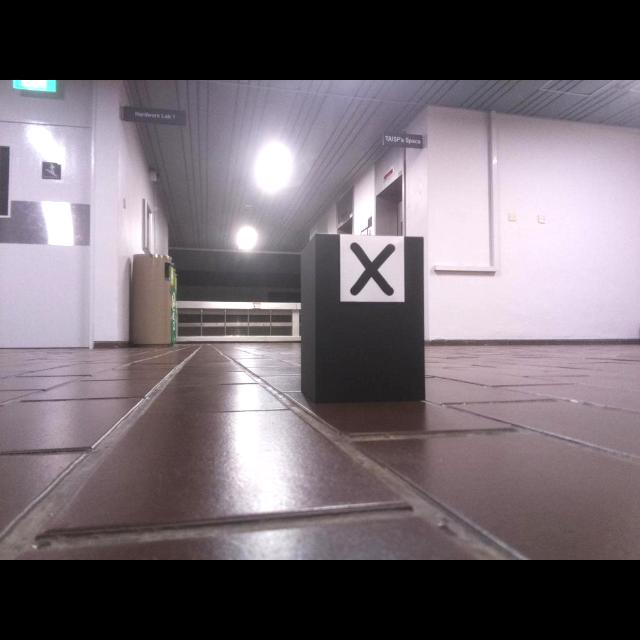X: (350, 241, 396, 297)
